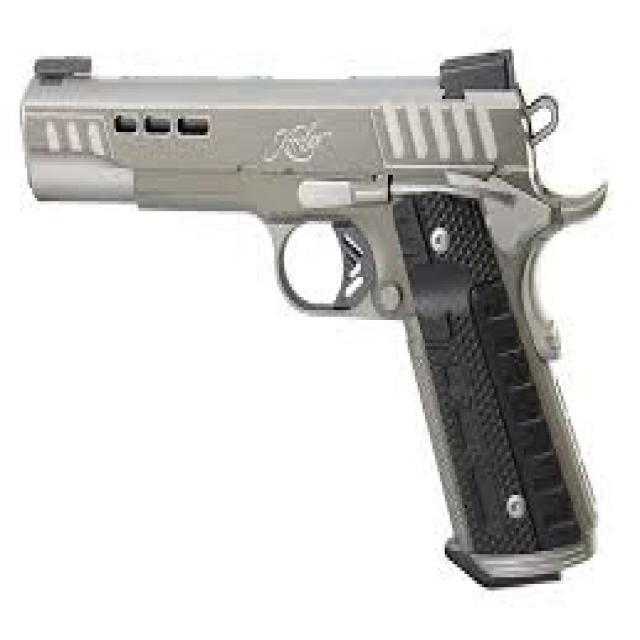semi automatic: (18, 41, 612, 596)
